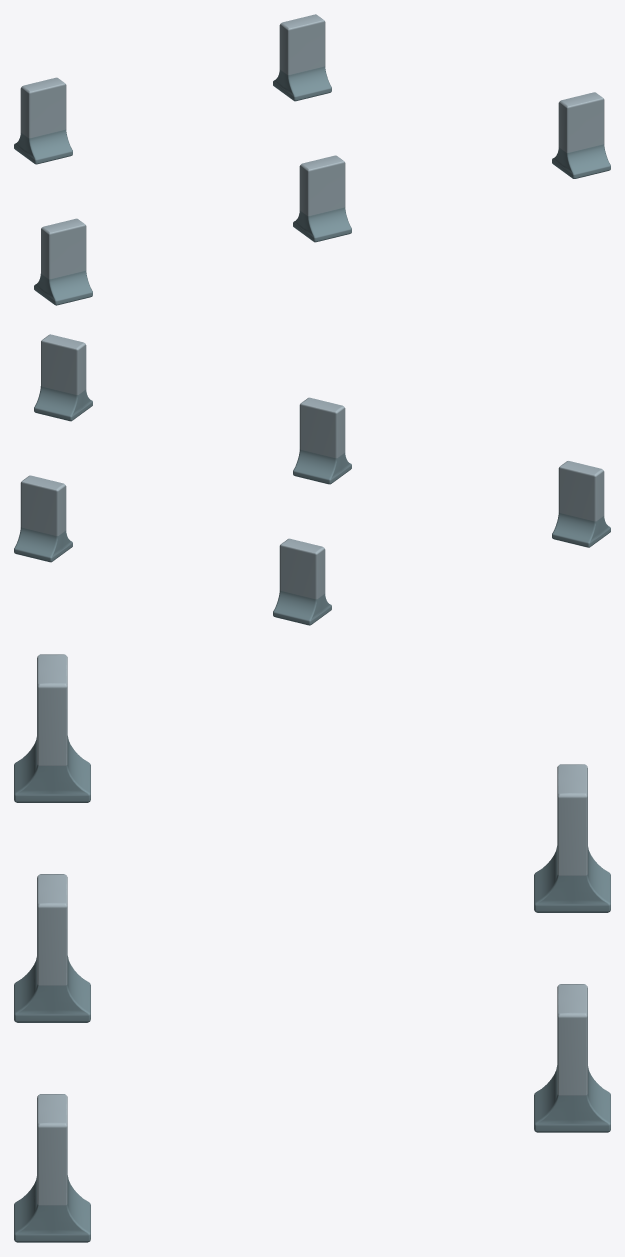
The model's file is Props.fbx.
3 renders of one model, top to bottom at view 1: azimuth 30°, elevation 25°; view 2: azimuth 150°, elevation 25°; view 3: azimuth 270°, elevation 25°, orthographic. The views are drawn at different scales.
Parts seen in each view (by area): view 1: 曲面单元 (×5); view 2: 曲面单元 (×5); view 3: 曲面单元 (×5).
Boxes of the visible parts, <box> form: 曲面单元 (×5): <box>14,14,610,305</box>; 曲面单元 (×5): <box>14,334,610,625</box>; 曲面单元 (×5): <box>14,654,610,1242</box>.
Bounding box in the file's own units: 42.95 × 5.02 × 22.96.
